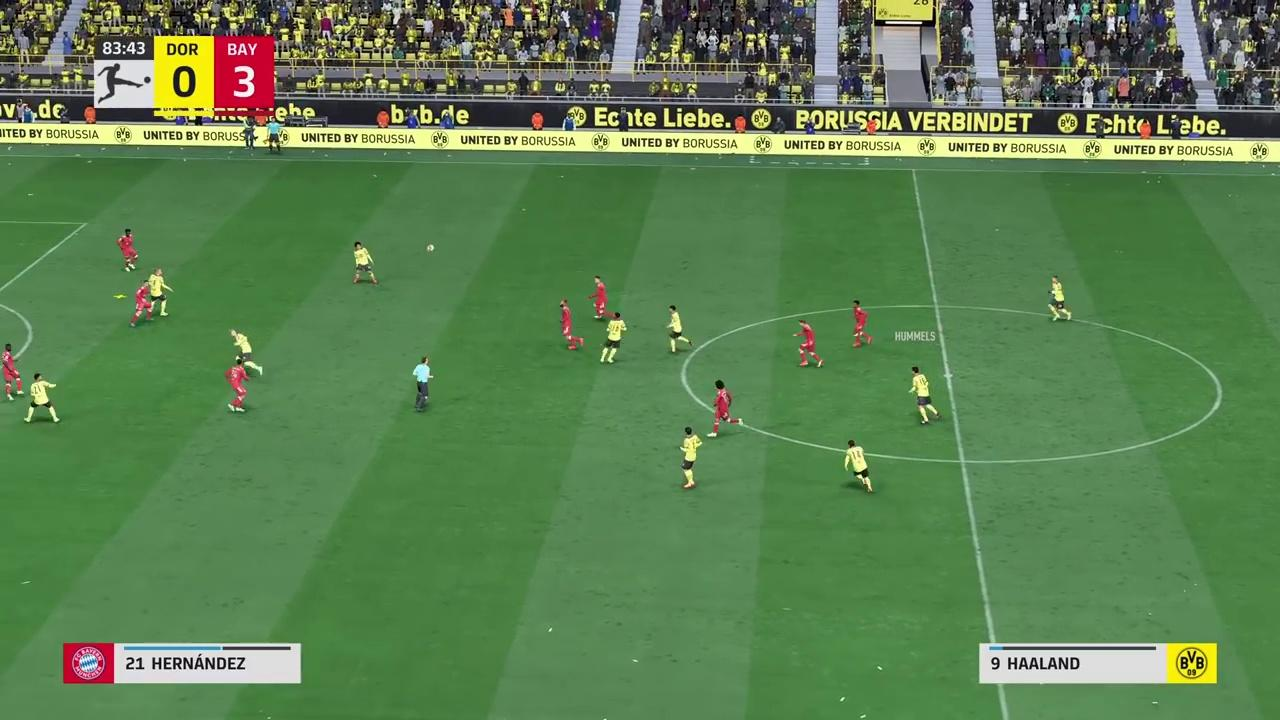scoreboard: (156, 39, 273, 119)
timestamp: (97, 38, 153, 59)
